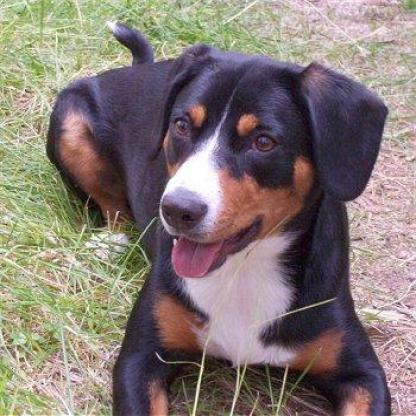EntleBucher: (45, 14, 389, 414)
